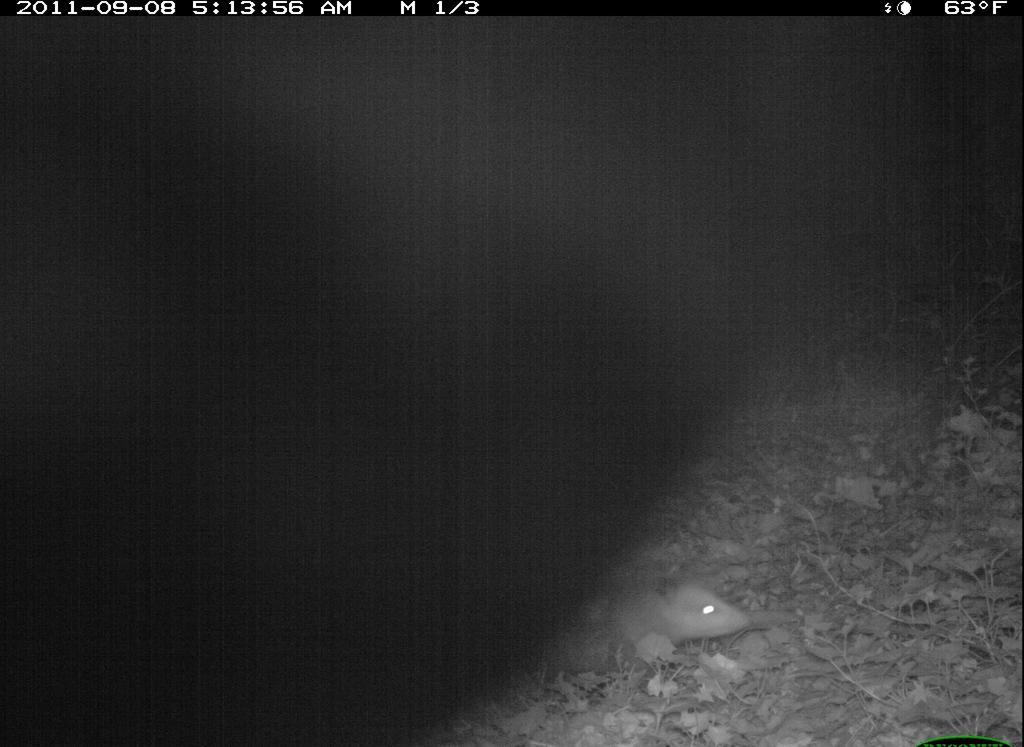opossum: (594, 562, 747, 681)
